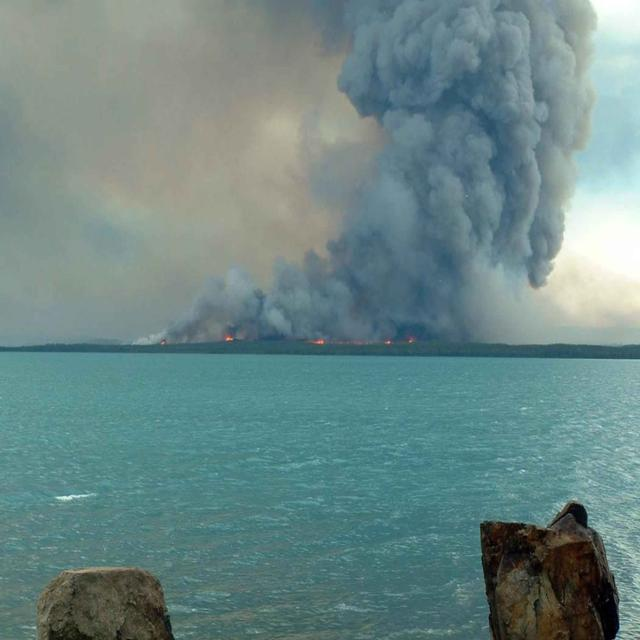Fire: (196, 329, 418, 344)
Smoke: (0, 0, 640, 345)
